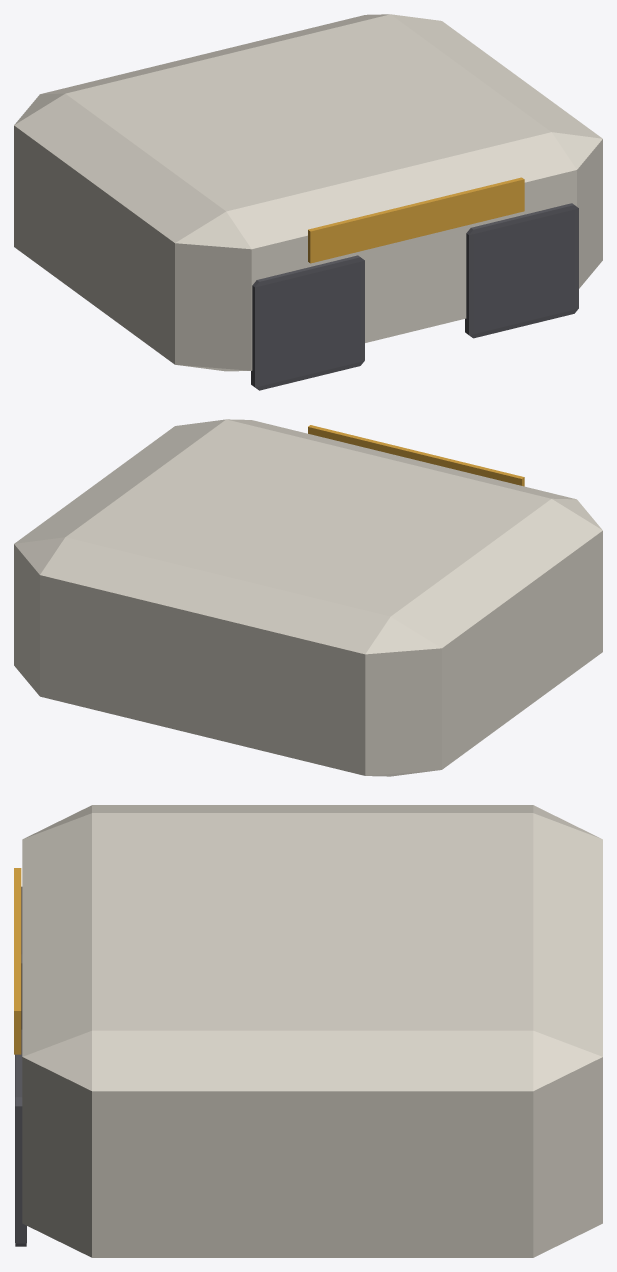
The model's file is autoshop.glb.
3 renders of one model, top to bottom at view 1: azimuth 30°, elevation 25°; view 2: azimuth 150°, elevation 25°; view 3: azimuth 270°, elevation 25°, orthographic. The views are drawn at different scales.
Parts seen in each view (by area): view 1: walls, bay, bay.001, sign; view 2: walls, sign; view 3: walls, bay.001, sign.
Boxes of the visible parts, bbox=[...] form: walls: bbox=[14, 14, 602, 371]; bay: bbox=[251, 255, 364, 390]; bay.001: bbox=[465, 203, 578, 338]; sign: bbox=[308, 177, 524, 263]; walls: bbox=[14, 419, 602, 776]; sign: bbox=[308, 425, 524, 486]; walls: bbox=[22, 805, 602, 1257]; bay.001: bbox=[15, 1029, 26, 1246]; sign: bbox=[14, 868, 21, 1054].
Size of the model in its own units: 14 by 5 by 12.17.
